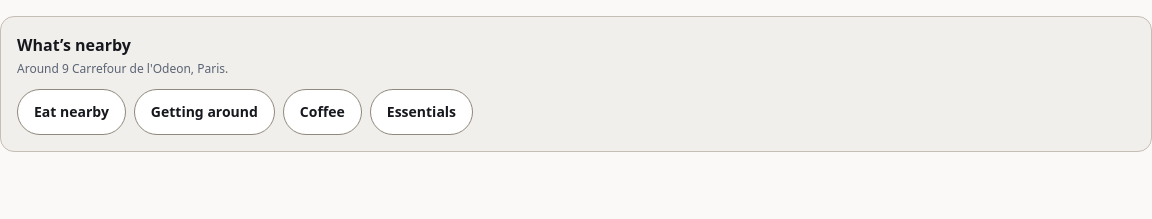
Test case: what it refuses to ask › passes the server's own refusal through rather than inventing one
Click the button "Eat nearby": coordinates (71, 112) [17,89,126,135]
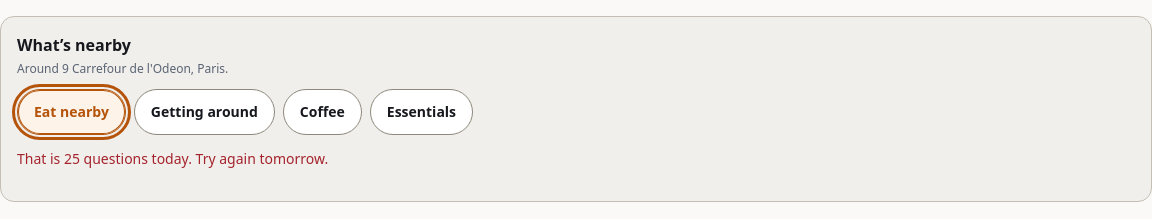
Result: the text "That is 25 questions today. Try again tomorrow." is shown at [17,149,328,168]
